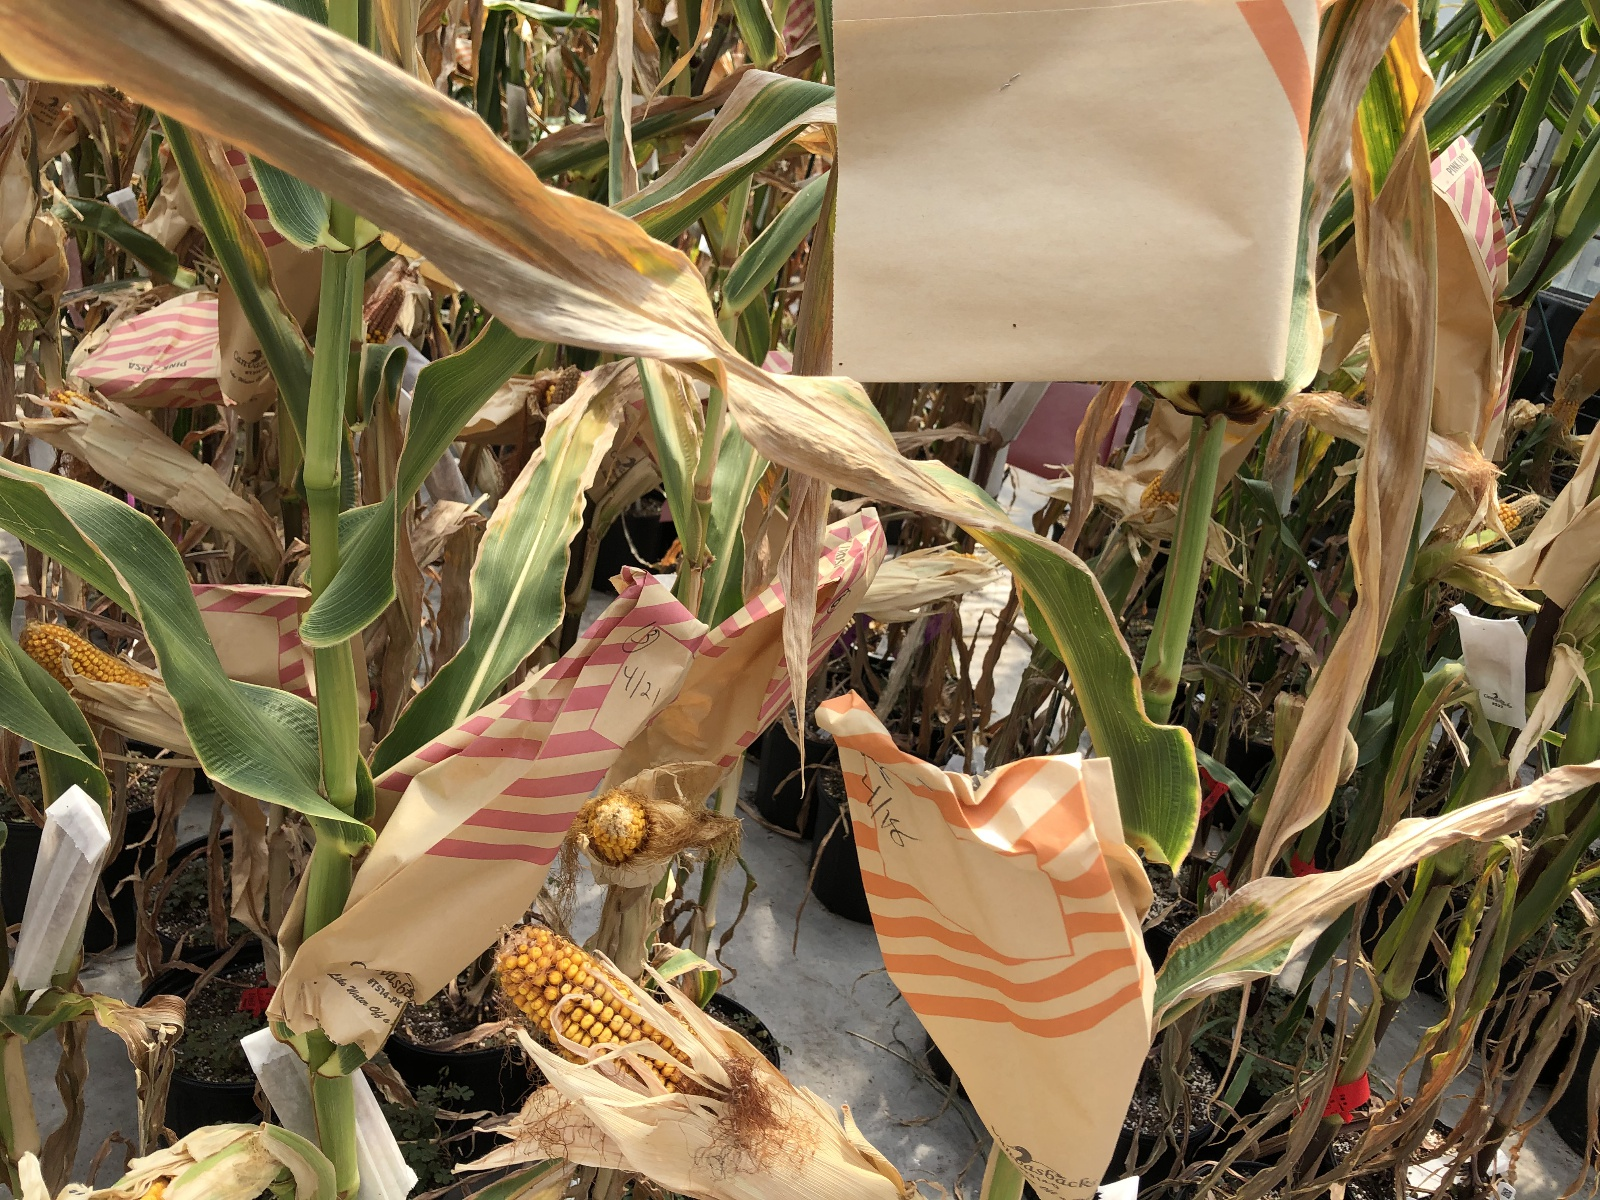ear: (488, 914, 847, 1184), (42, 384, 242, 518), (15, 609, 179, 742), (869, 550, 984, 614), (576, 778, 653, 872), (1136, 435, 1196, 529), (1466, 487, 1545, 541), (1540, 368, 1592, 444), (355, 281, 404, 350), (537, 358, 585, 410)
